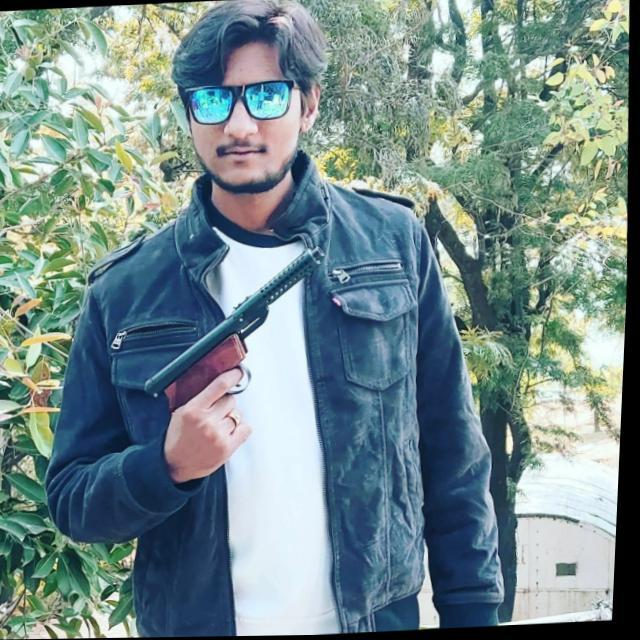weapon: (137, 244, 338, 451)
